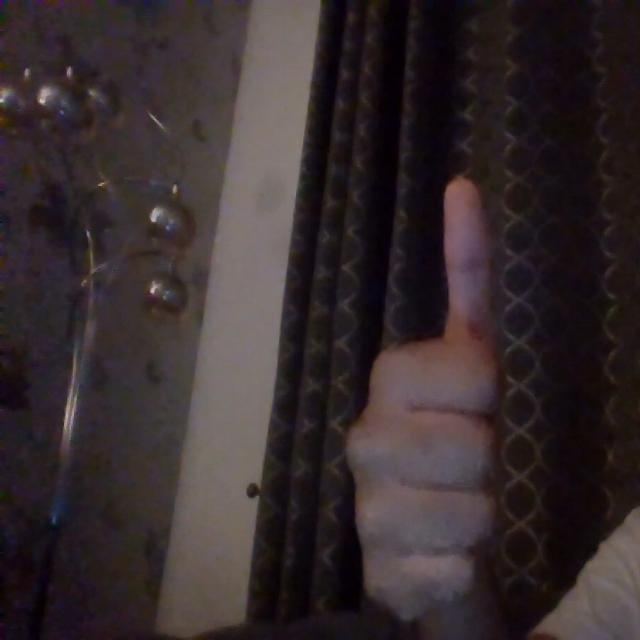hand thumb up: (346, 166, 504, 617)
